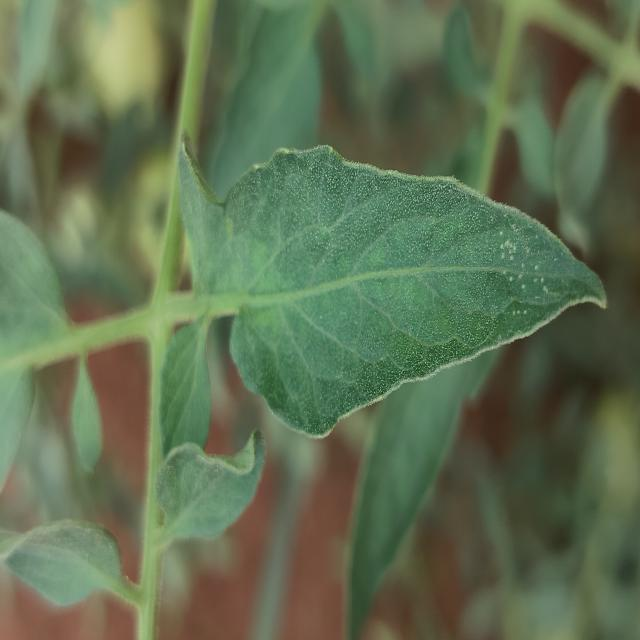tomato_healthy: (179, 140, 606, 436), (156, 430, 266, 547), (2, 519, 141, 605)
